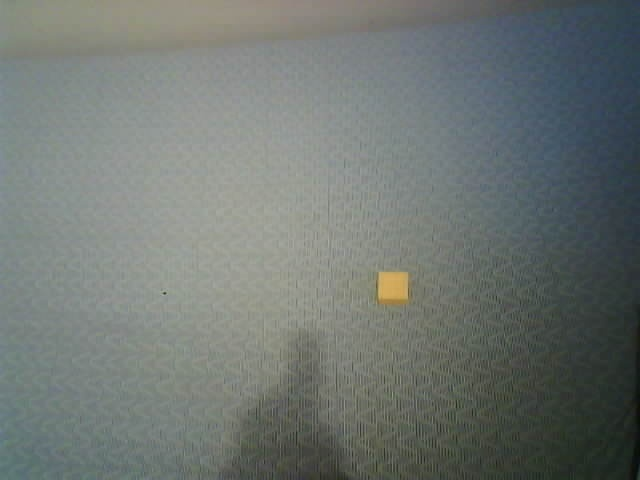lego: (376, 271, 410, 305)
